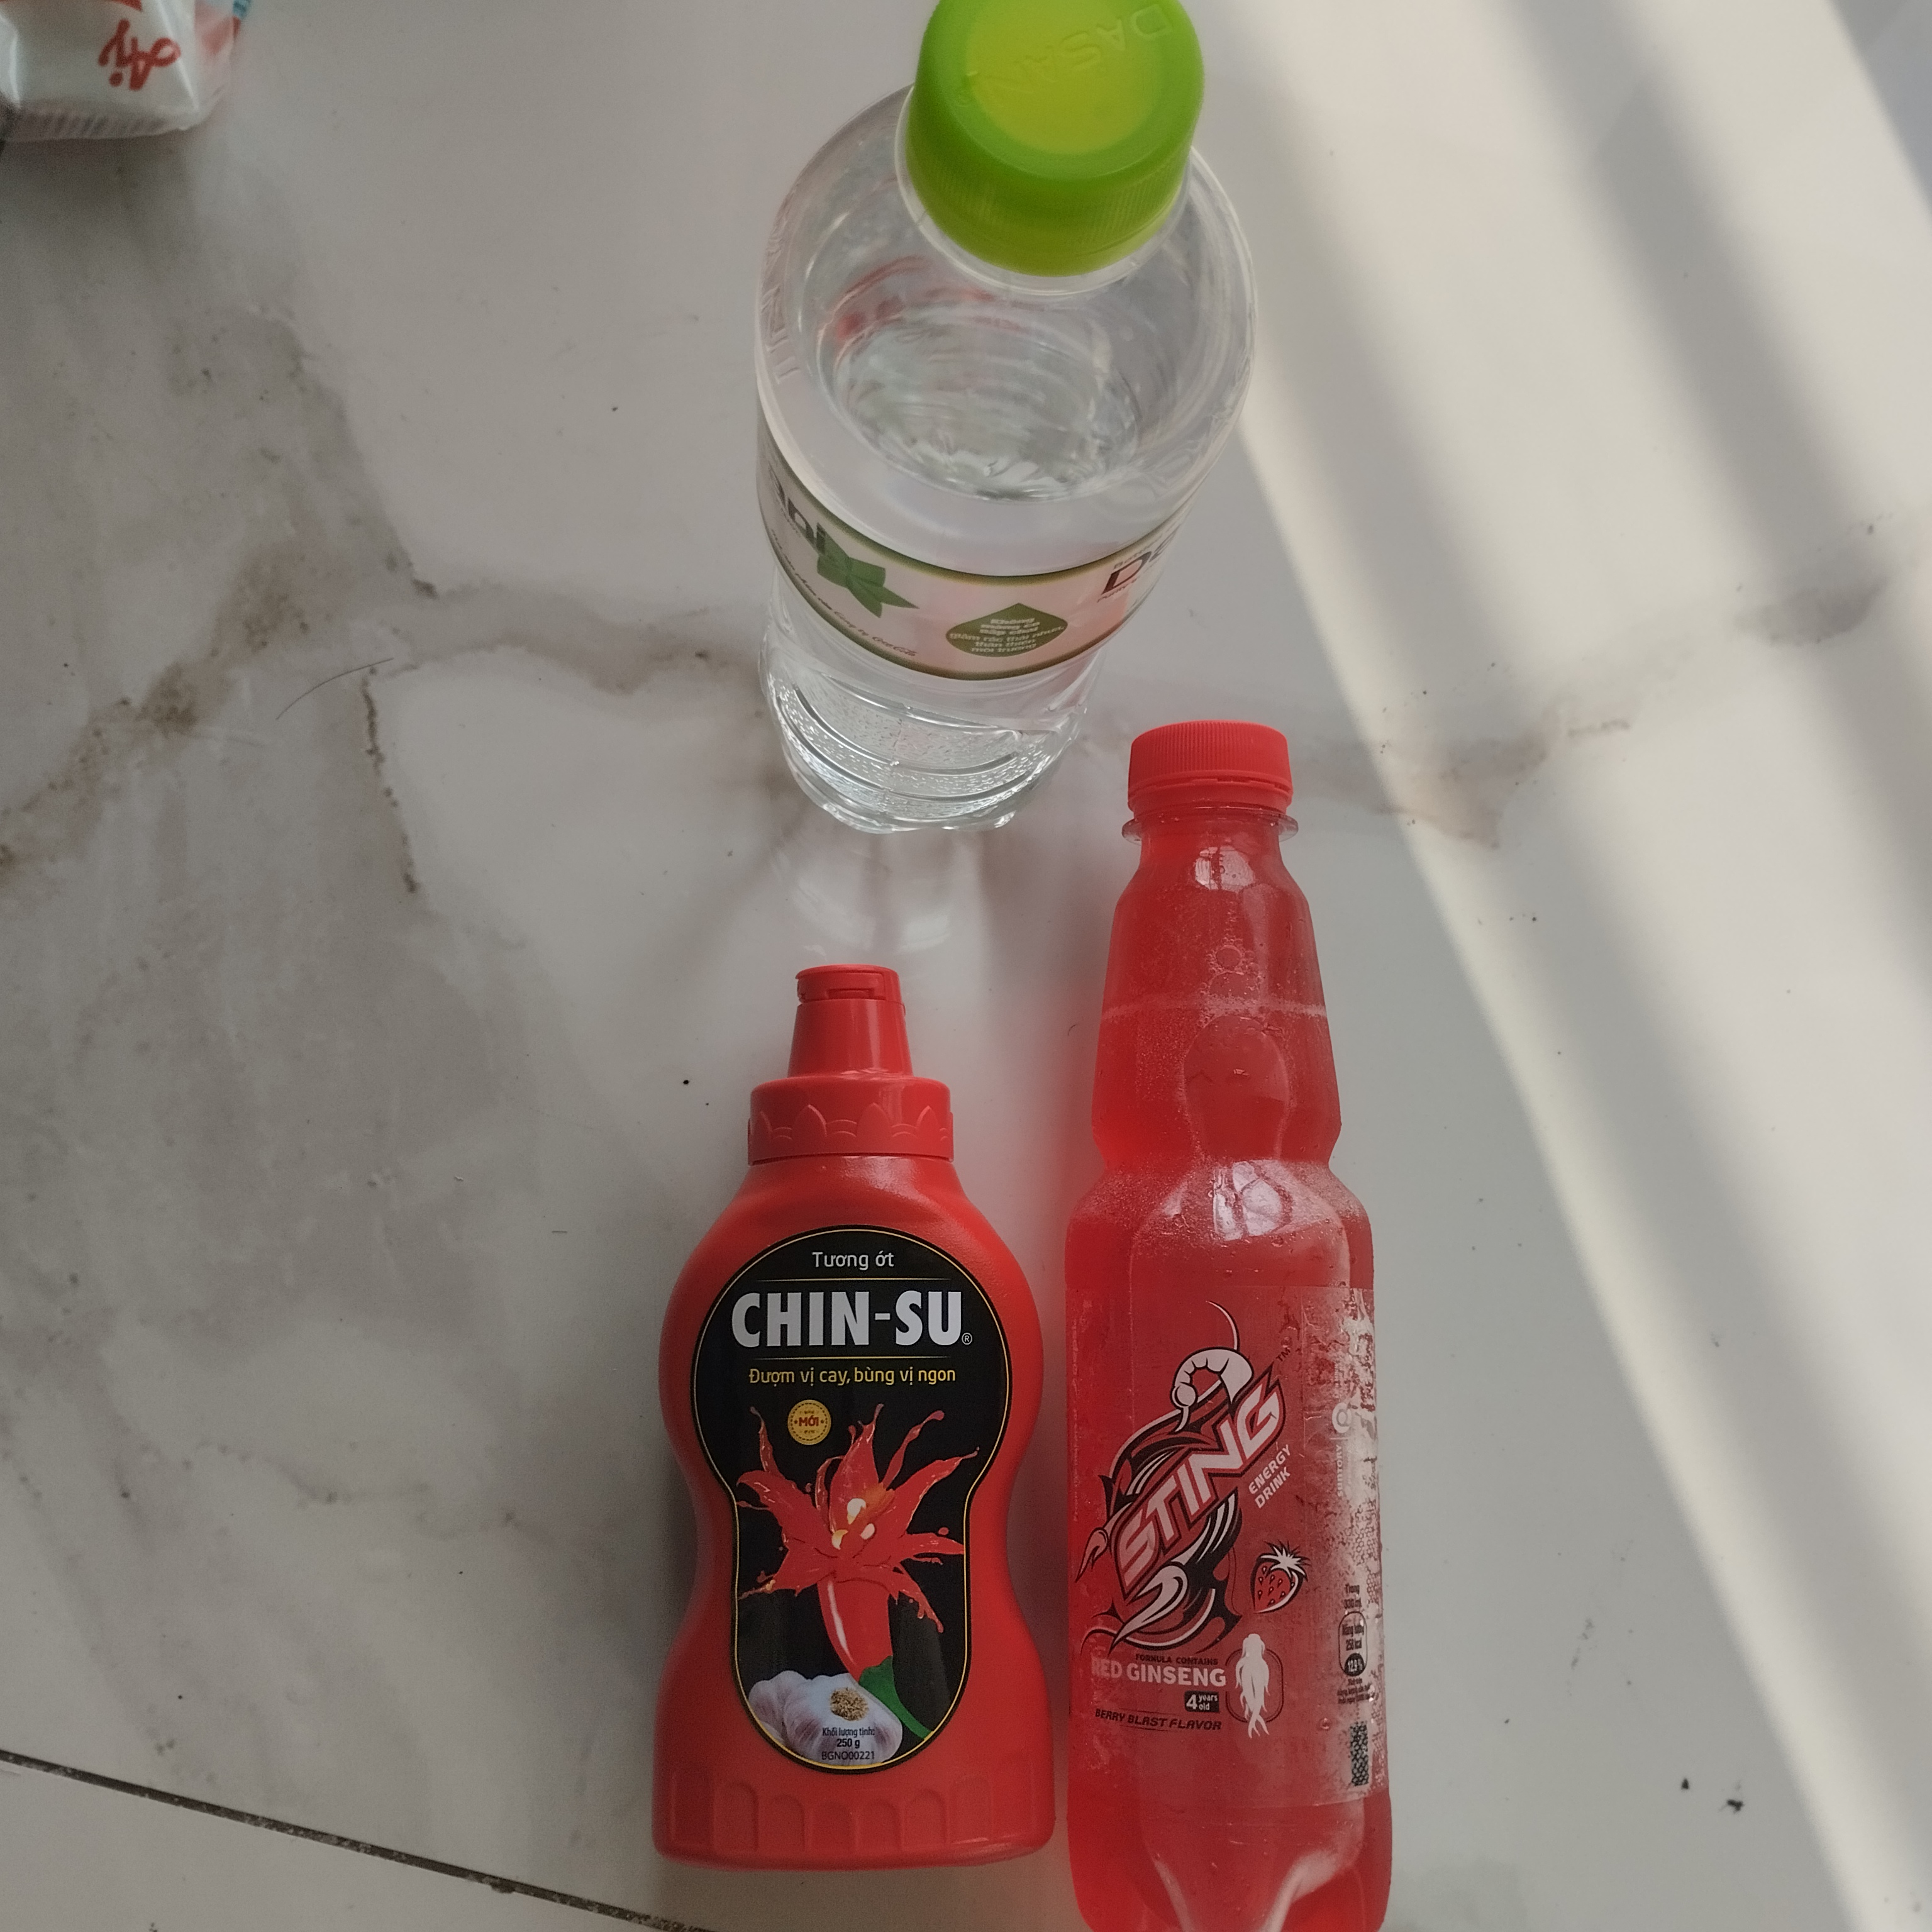Chinsu: (633, 957, 1086, 1882)
Dasani: (736, 16, 1253, 858)
Sting: (1030, 708, 1419, 1932)
